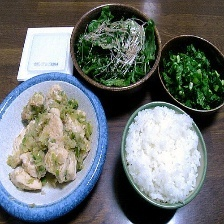rice: (128, 106, 203, 207)
